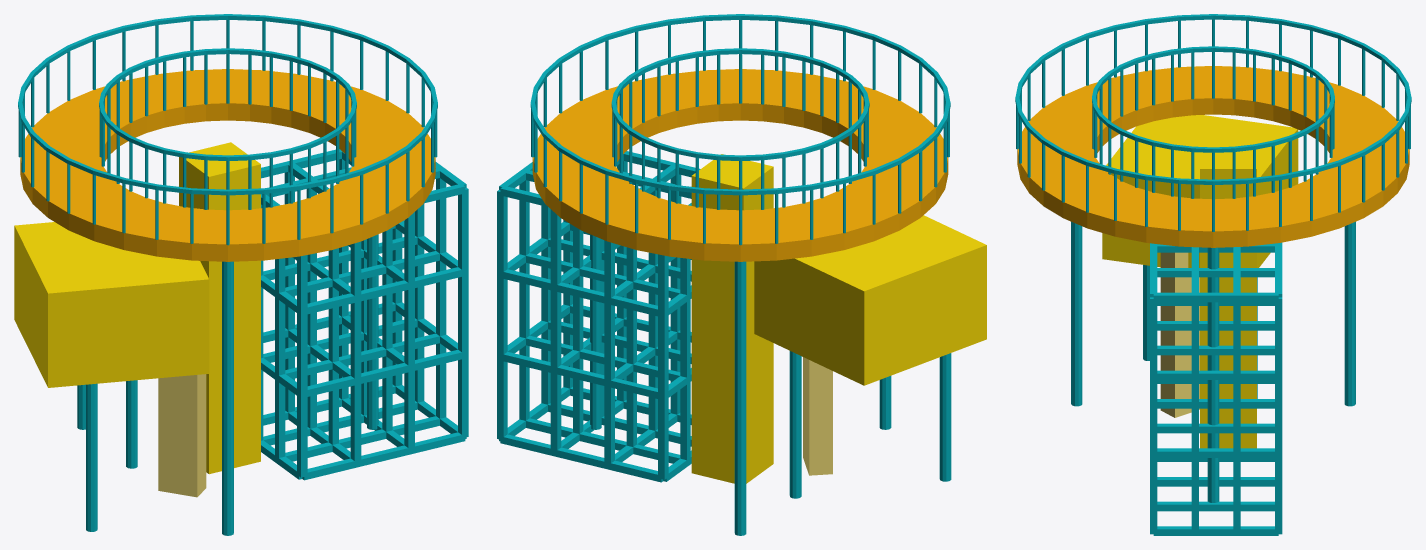
The model's file is folie_tag_126.glb.
3 views of the same model, side by side, from view 1: azimuth 30°, elevation 25°; view 2: azimuth 150°, elevation 25°; view 3: azimuth 270°, elevation 25° (orthographic). The views are drawn at different scales.
Visible parts, largest first — view 1: folie_tag_126_00_ring, folie_tag_126_02_cage, folie_tag_126_line, folie_tag_126_01_block, folie_tag_126_core, folie_tag_126_03_fin; view 2: folie_tag_126_00_ring, folie_tag_126_02_cage, folie_tag_126_line, folie_tag_126_01_block, folie_tag_126_core, folie_tag_126_03_fin; view 3: folie_tag_126_00_ring, folie_tag_126_line, folie_tag_126_02_cage, folie_tag_126_01_block, folie_tag_126_core, folie_tag_126_03_fin.
Part boxes in pixels (left/top/right/bottom): folie_tag_126_00_ring: left=20, top=69, right=435, bottom=261; folie_tag_126_02_cage: left=261, top=149, right=468, bottom=480; folie_tag_126_line: left=18, top=14, right=437, bottom=535; folie_tag_126_01_block: left=14, top=222, right=209, bottom=387; folie_tag_126_core: left=179, top=142, right=260, bottom=474; folie_tag_126_03_fin: left=158, top=374, right=206, bottom=497; folie_tag_126_00_ring: left=532, top=69, right=948, bottom=261; folie_tag_126_02_cage: left=497, top=151, right=700, bottom=482; folie_tag_126_line: left=530, top=14, right=951, bottom=535; folie_tag_126_01_block: left=754, top=215, right=986, bottom=385; folie_tag_126_core: left=691, top=154, right=773, bottom=483; folie_tag_126_03_fin: left=803, top=357, right=832, bottom=475; folie_tag_126_00_ring: left=1017, top=66, right=1409, bottom=247; folie_tag_126_line: left=1015, top=14, right=1411, bottom=502; folie_tag_126_02_cage: left=1150, top=242, right=1282, bottom=535; folie_tag_126_01_block: left=1102, top=115, right=1298, bottom=267; folie_tag_126_core: left=1200, top=145, right=1256, bottom=448; folie_tag_126_03_fin: left=1160, top=252, right=1199, bottom=417.
Size of the model in its own units: 8.87 by 7.33 by 7.68.
